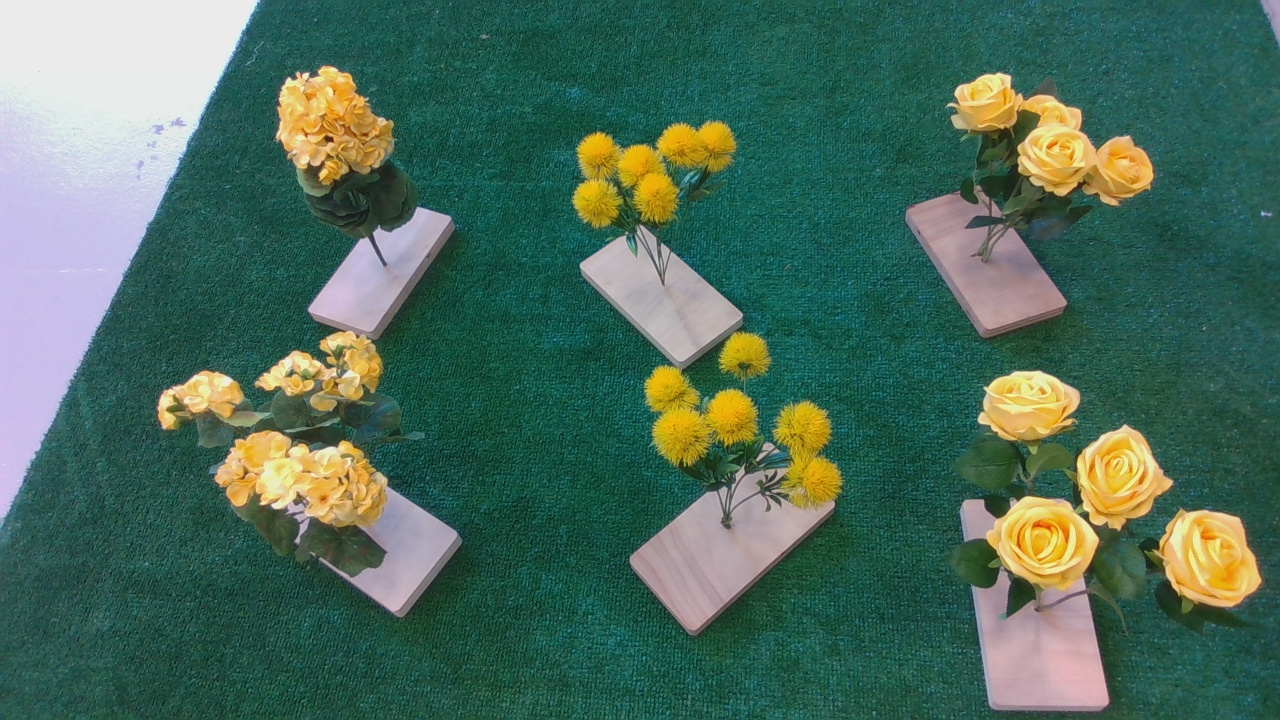dandelion: (643, 336, 863, 521), (573, 124, 764, 239)
geranium: (161, 330, 410, 585), (261, 65, 431, 243)
rose: (961, 373, 1272, 644), (930, 63, 1167, 229)
